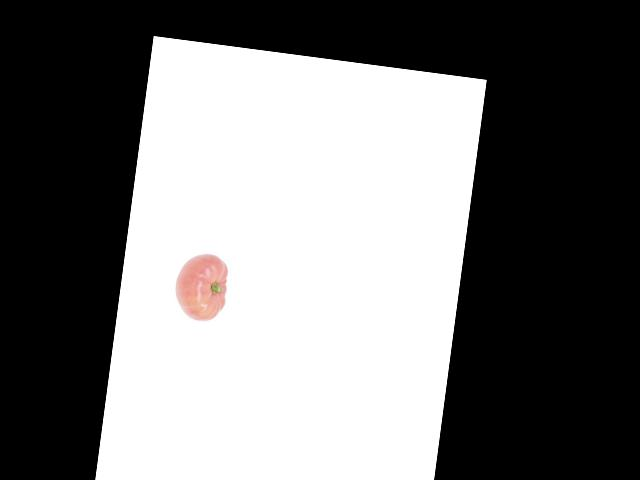tomato: (171, 250, 229, 324)
